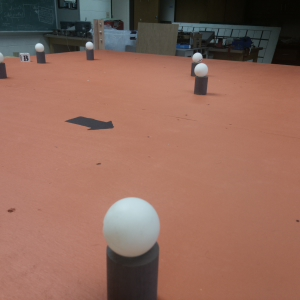blockB: (19, 52, 30, 63)
corner: (92, 17, 105, 43)
obstacle: (102, 195, 164, 300), (195, 63, 209, 97), (34, 43, 46, 64), (1, 49, 7, 80), (84, 42, 94, 59)
start: (66, 116, 117, 131)
